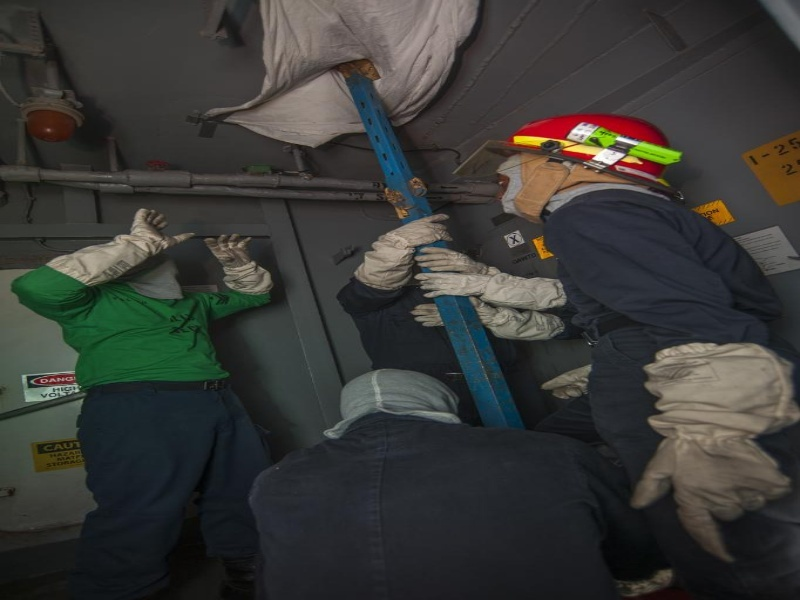baret: (485, 111, 683, 195)
